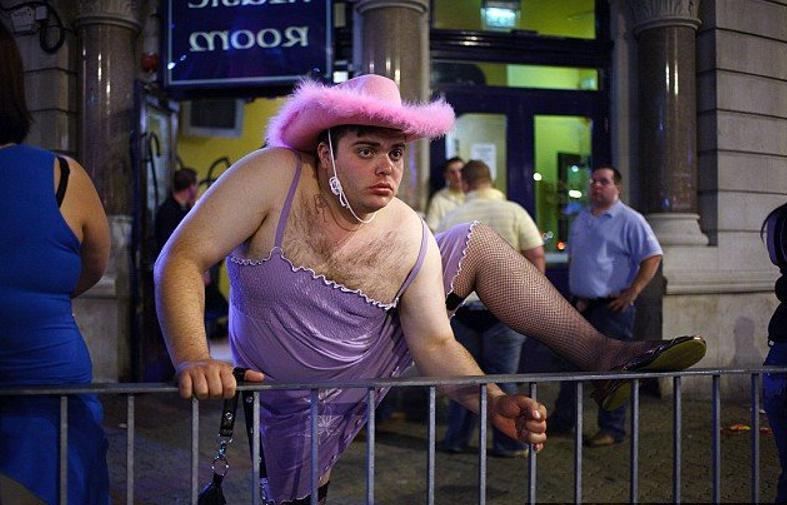Drunk: (340, 135, 405, 209)
